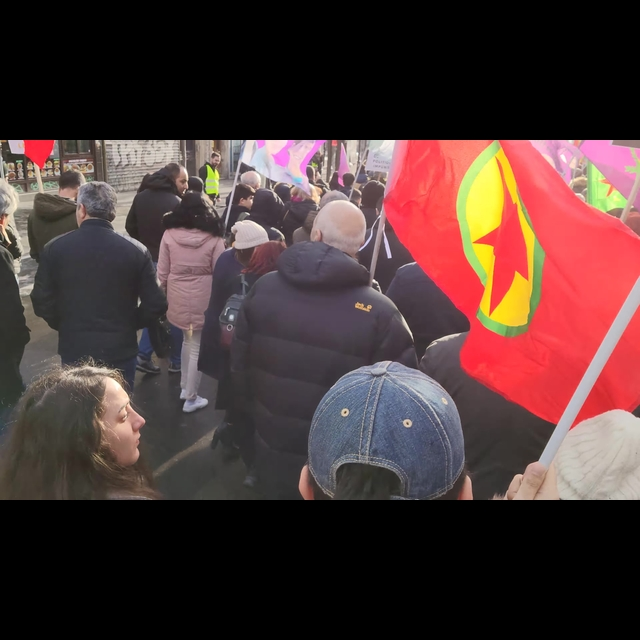PKK: (450, 140, 558, 350)
